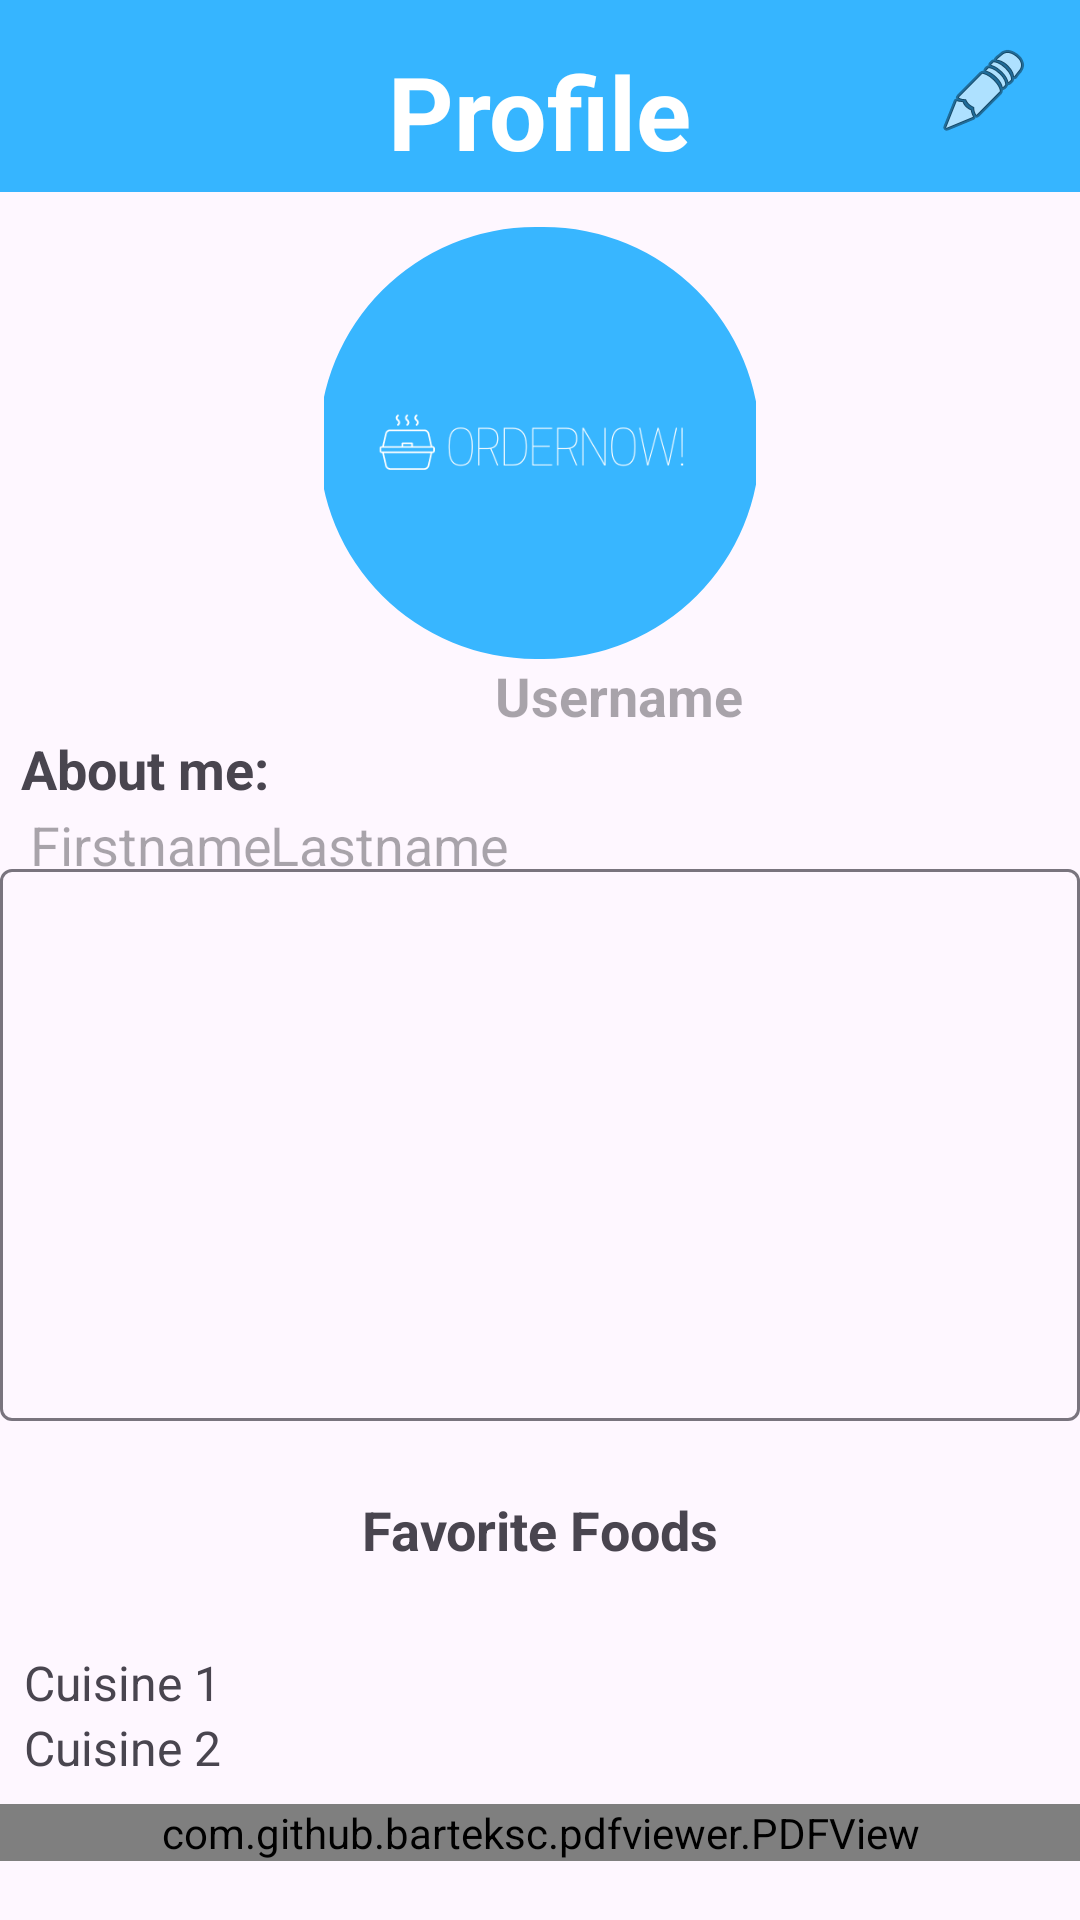

Where to tap for icons on this 1080 x 1920 app screen, as [x,y]:
edit: [983,90]
